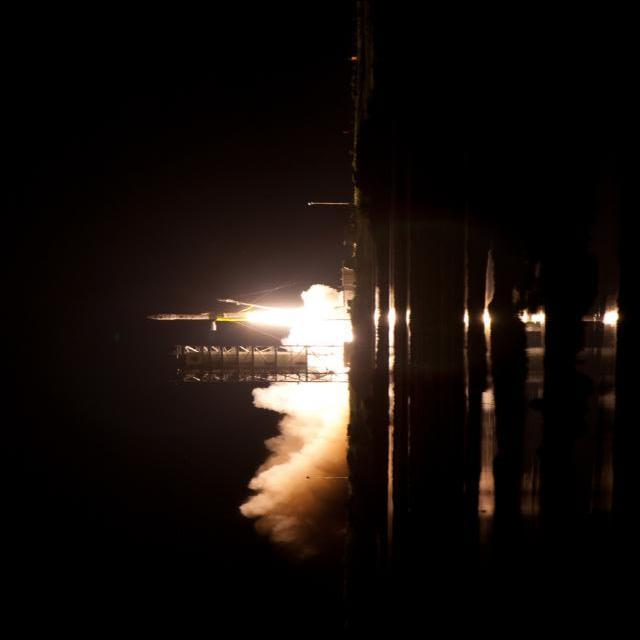missile: (142, 309, 256, 323)
